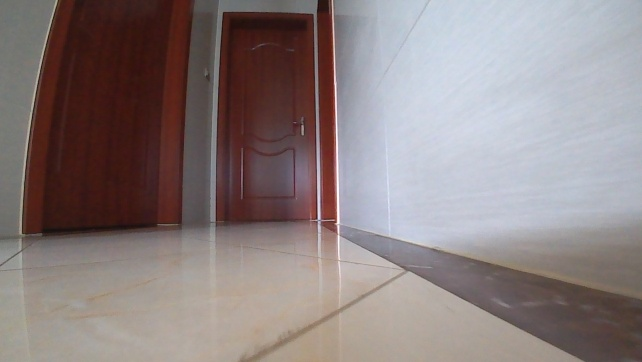door_anno: (19, 0, 195, 255), (212, 10, 315, 233)
